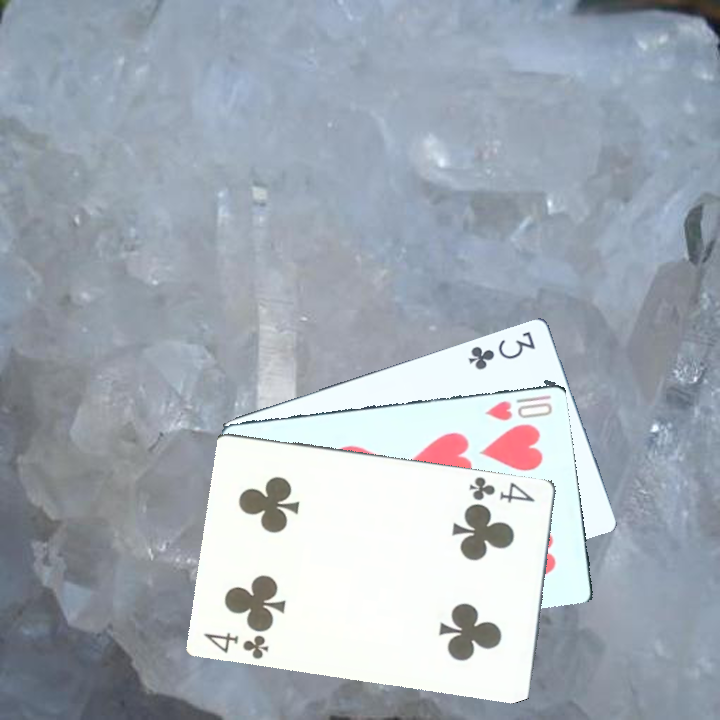10h: (481, 391, 555, 423)
3c: (465, 327, 538, 373)
4c: (199, 628, 271, 661), (465, 473, 538, 505)
